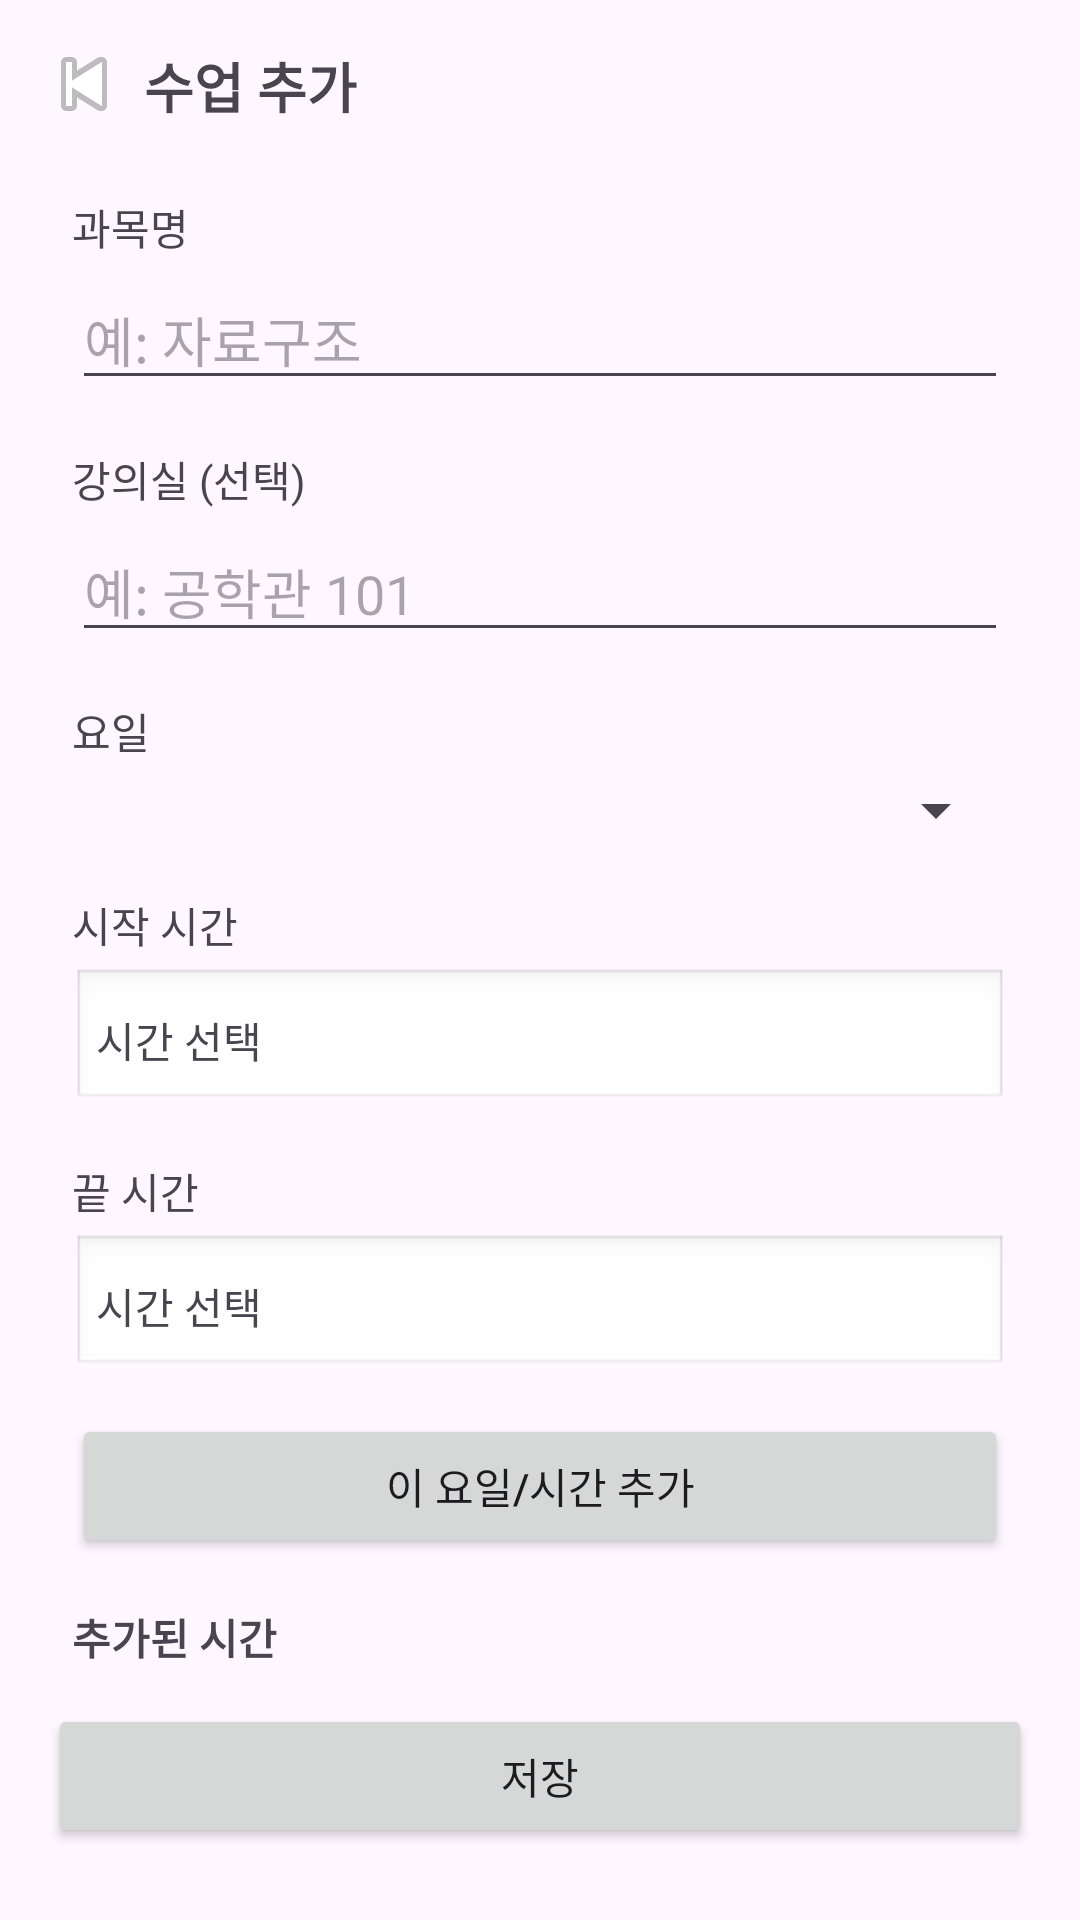

Locate icon controls on the screen. Image size 1080×1920, boxes as (x1, y1, x2, y2).
뒤로가기: (61, 57, 107, 111)
